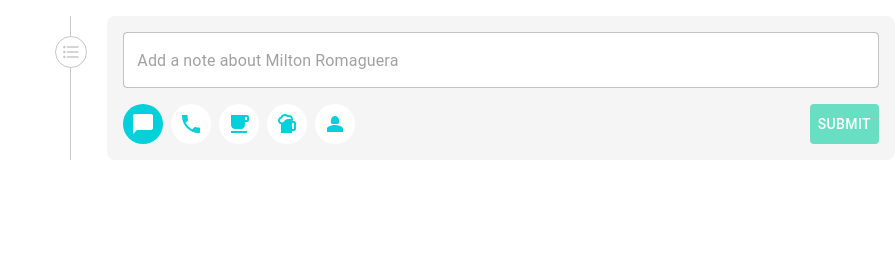
Test: coffe type of message
Type "Hello Man" into the text box with placeholder "Add a note about Milton Romaguera" at point(501, 60), box [137, 48, 865, 72]
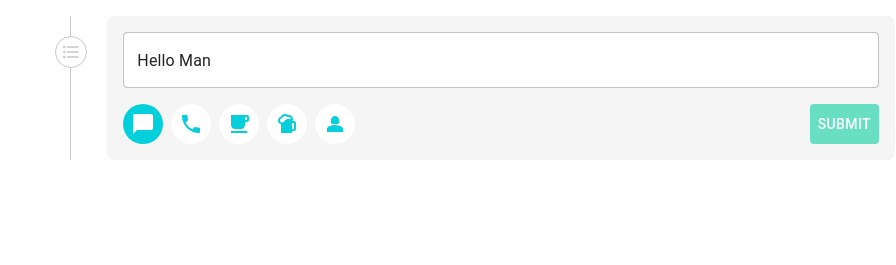
Click the button with test id "Coffee" at point(239, 124), box [219, 104, 259, 144]
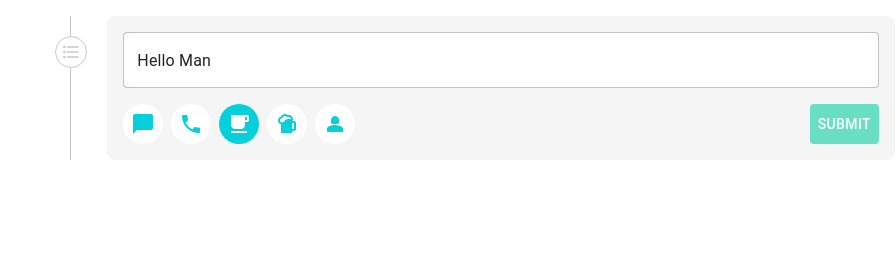
Click the button "Submit" at point(844, 124), box [810, 104, 879, 144]
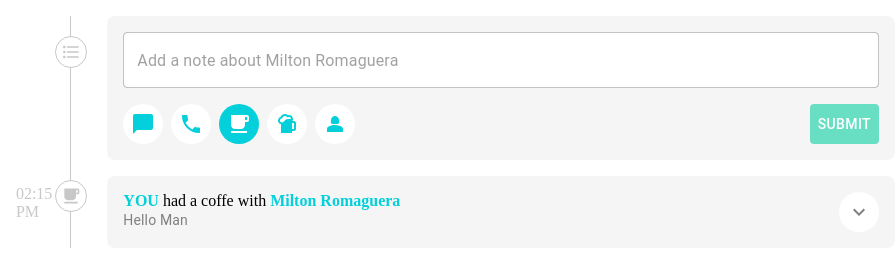
Result: the text "had a coffe with" is shown at [163, 192, 266, 209]
Result: the text "Hello Man" is shown at [123, 212, 188, 228]
